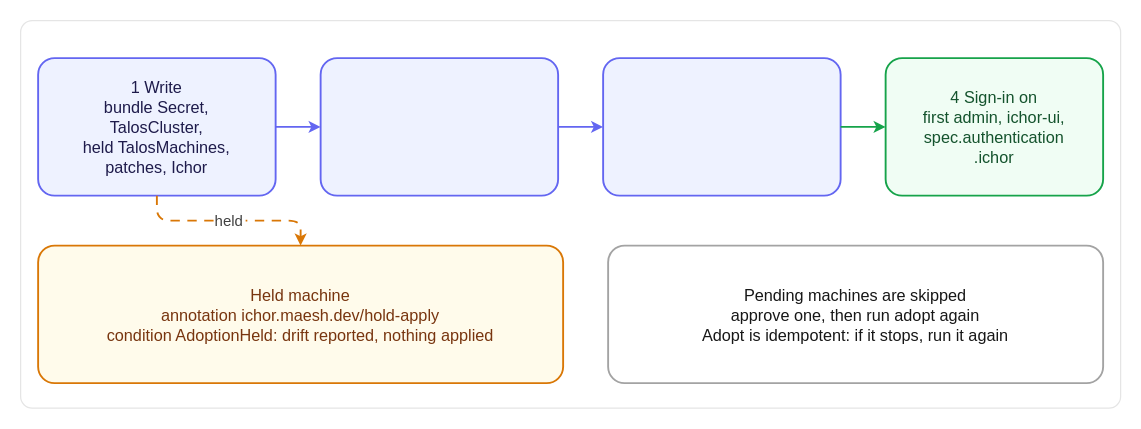
Image size: 1141x429. Some labels were removed from this diagram. Here are the shapes that lost their labels. From the top down, the centre of each, then its label:
the point at 438,126: 2 Cilium takeover; wait for CNIHandover (skip: --cni-unmanaged)
the point at 721,126: 3 Release holds control planes first, each after a live zero-drift check
